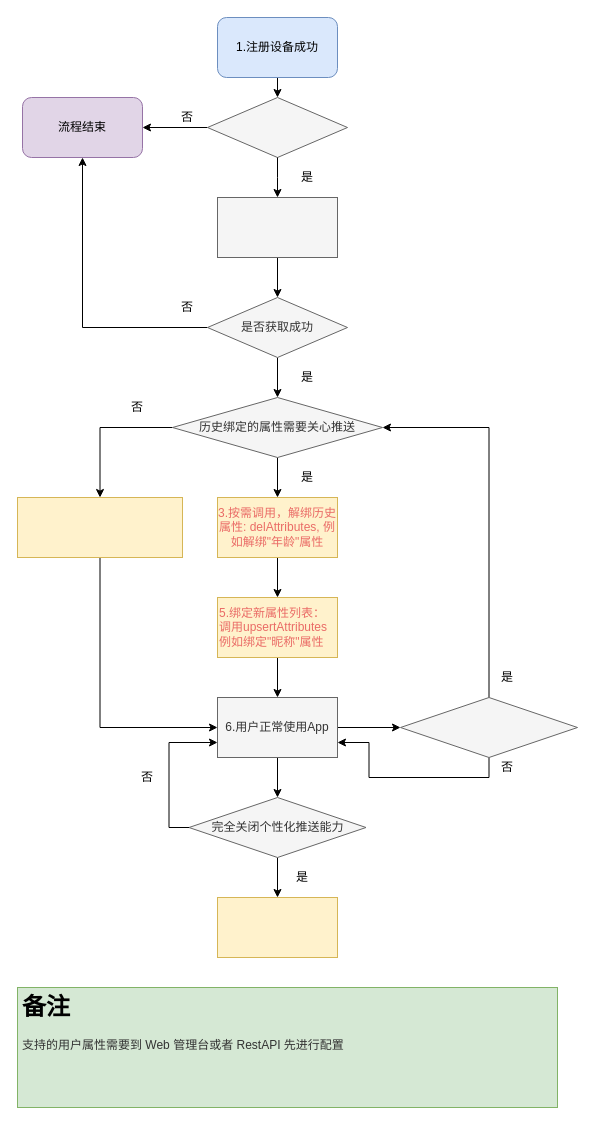
Image size: 595x1125. Some labels were removed from this diagram. Here are the shapes that lost their labels. From the top down, the centre of each, then its label:
At (277,127): "需要个性化推送能力".
At (277,227): "2.App获取要绑定的用户属性列表(例如“昵称”)".
At (99,527): "4.清空历史属性并绑定新属性:clearAndAppendAttributes".
At (489,727): "需要变更绑定的属性列表".
At (277,927): "7.调用清空属性:clearAttributes".
